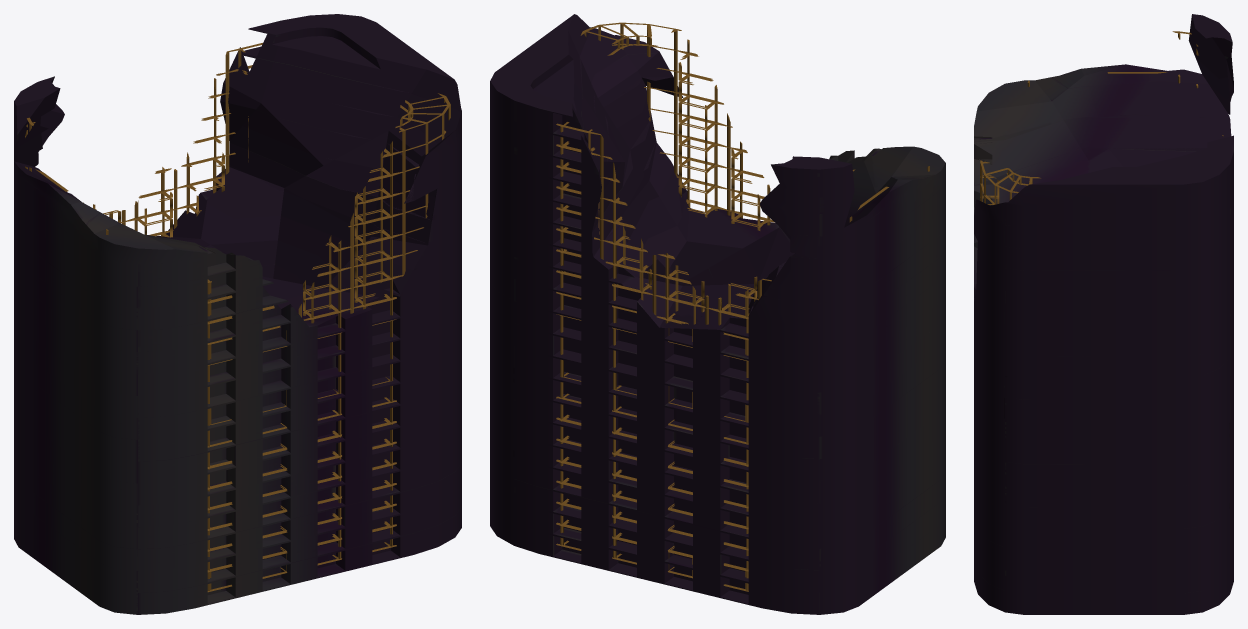
The model's file is building1.fbx.
The picture shows the model from 3 angles, left to right: view 1: azimuth 30°, elevation 25°; view 2: azimuth 150°, elevation 25°; view 3: azimuth 270°, elevation 25°; orthographic projection. The views are drawn at different scales.
Visible parts, largest first — view 1: Cube.018; view 2: Cube.018; view 3: Cube.018.
Boxes of the visible parts, x1,y1,x2,y2 form: Cube.018: [14, 14, 461, 614]; Cube.018: [490, 14, 945, 614]; Cube.018: [974, 14, 1233, 614].
Size of the model in its own units: 4670 by 5459 by 2986.
